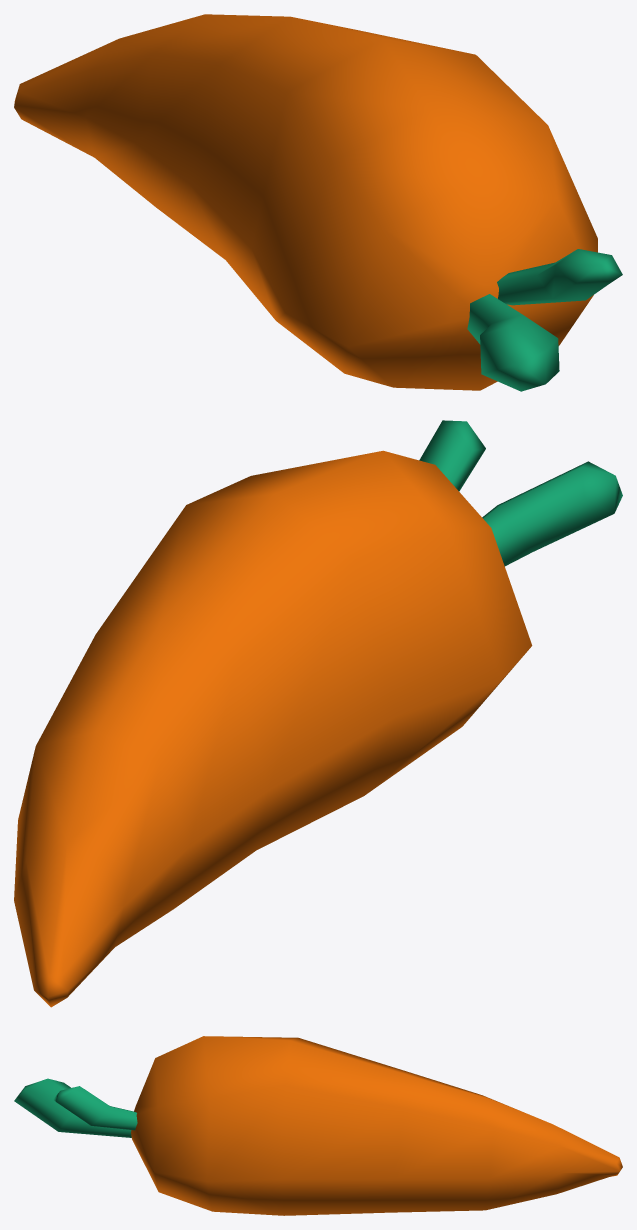
The model's file is Carrot.fbx.
The picture shows the model from 3 angles, top to bottom: view 1: azimuth 30°, elevation 25°; view 2: azimuth 150°, elevation 25°; view 3: azimuth 270°, elevation 25°; orthographic projection. The views are drawn at different scales.
Visible parts, largest first — view 1: Carrot; view 2: Carrot; view 3: Carrot.
Boxes of the visible parts, x1,y1,x2,y2 form: Carrot: (14, 14, 622, 391); Carrot: (14, 420, 622, 1007); Carrot: (14, 1036, 622, 1215).
Size of the model in its own units: 13.57 by 12.27 by 42.04.
